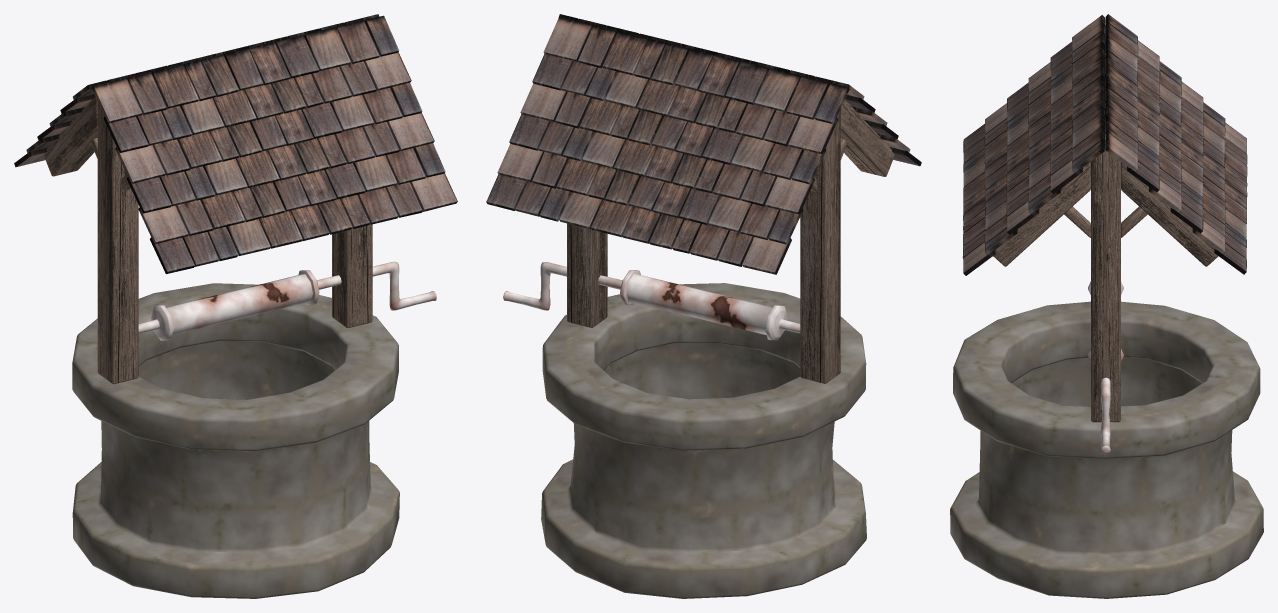
Rendered from water_well.glb.
3 views of the same model, side by side, from view 1: azimuth 30°, elevation 25°; view 2: azimuth 150°, elevation 25°; view 3: azimuth 270°, elevation 25° (orthographic). The views are drawn at different scales.
Parts seen in each view (by area): view 1: Cylinder.002; view 2: Cylinder.002; view 3: Cylinder.002.
Boxes of the visible parts, x1=… form: Cylinder.002: x1=14, y1=14, x2=457, y2=598; Cylinder.002: x1=486, y1=14, x2=921, y2=598; Cylinder.002: x1=950, y1=14, x2=1263, y2=598.
Size of the model in its own units: 1.45 by 1.94 by 1.21.
Materials: 1 (1 with a texture image).
